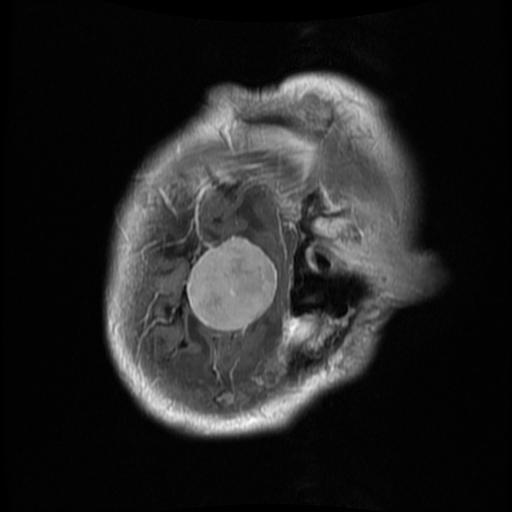meningioma: (186, 235, 277, 332)
